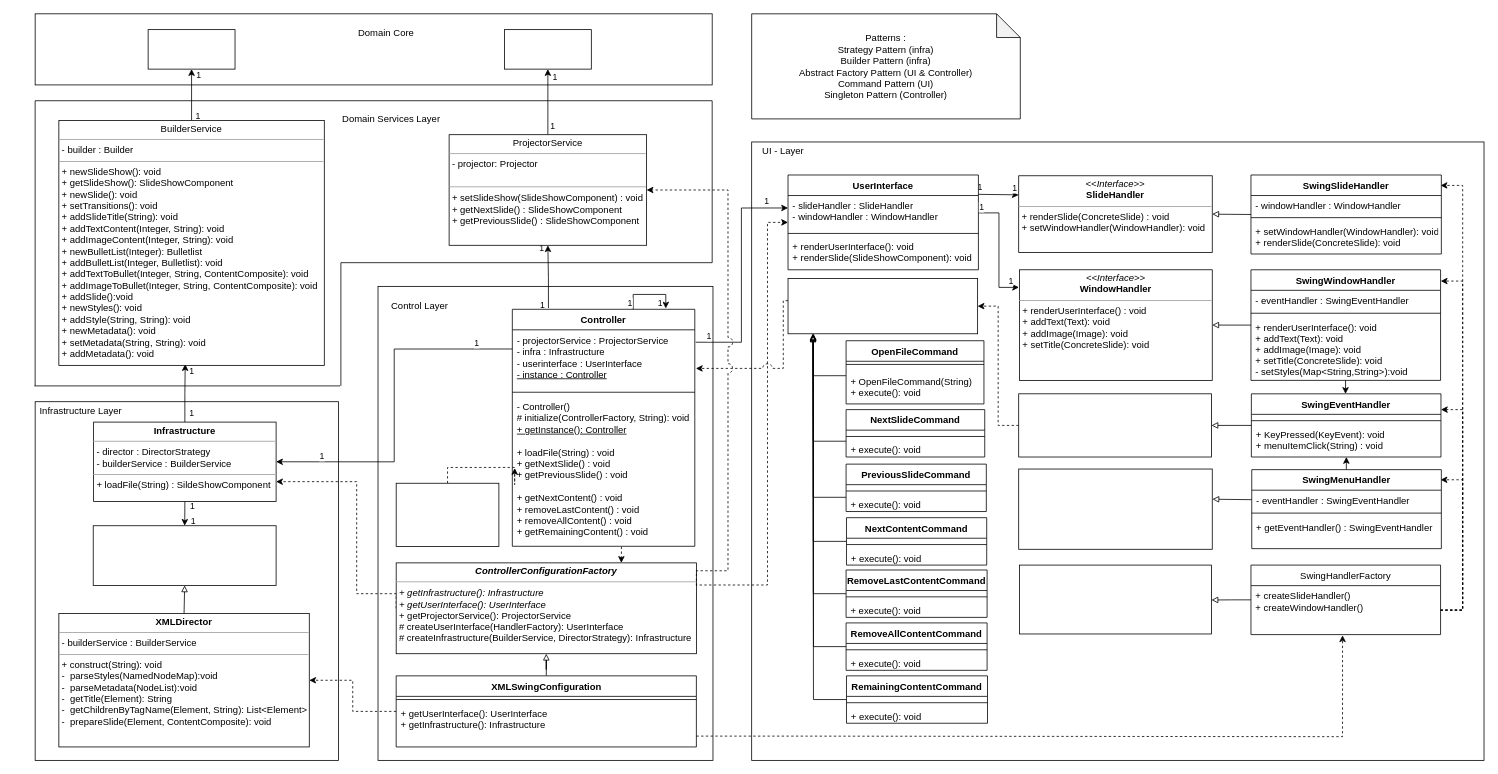
Some shapes in this 1498 by 774 pixel diagram are drawn without their labels. The centre of each missing label's shape, as x and y in pixels:
<<Interface>> Builder: point 191,49
<<Interface>> Command + execute(): void: point 882,306
<<Interface>> DirectorStrategy + construct(BulderService, String): void: point 184,555
<<Interface>> EventHandler + menuItemClick(String) : void: point 1114,425
<<Interface>> HandlerFactory + createSlideHandler() + createWindowHandler(): point 1115,599
<<Interface>> MenuHandler + getEventHandler() : EventHandler: point 1115,508
JabberPoint - filepath : String + main():void: point 447,514
Projector: point 547,49
